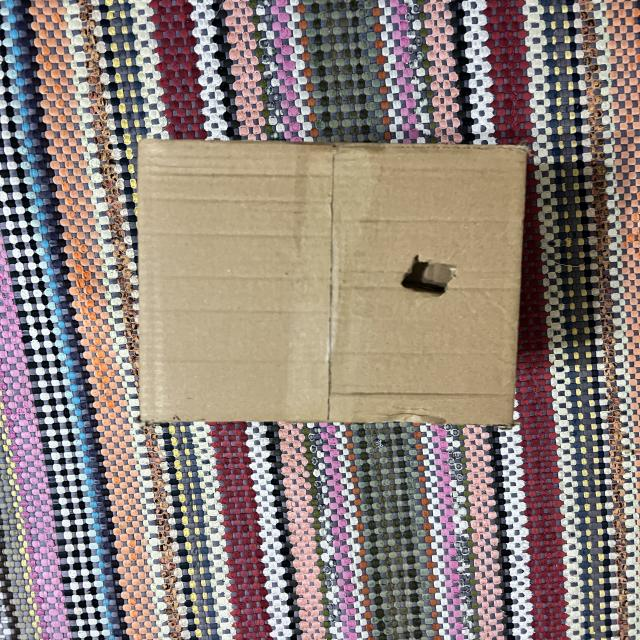damaged: (112, 114, 552, 448), (388, 242, 470, 308)
